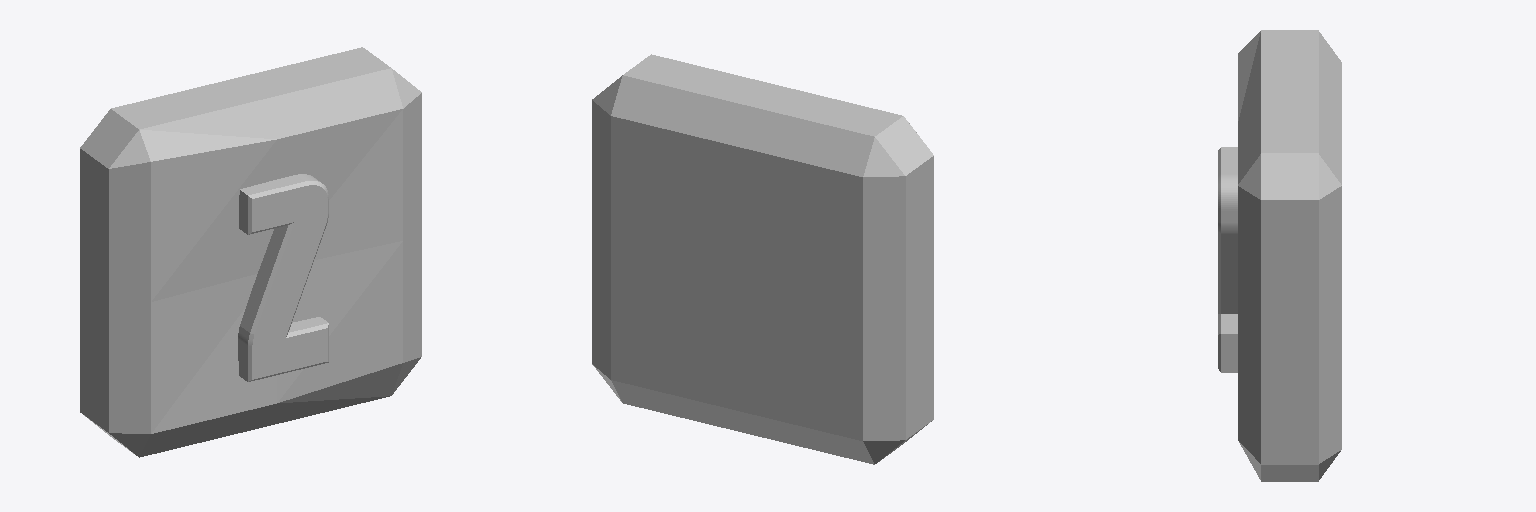
The model's file is Lvl-2.obj.
3 renders of one model, left to right at view 1: azimuth 30°, elevation 25°; view 2: azimuth 150°, elevation 25°; view 3: azimuth 270°, elevation 25°, orthographic.
Visible parts, largest first — view 1: lvl-2_Cube.011; view 2: lvl-2_Cube.011; view 3: lvl-2_Cube.011.
Part boxes in pixels (left/top/right/bottom): lvl-2_Cube.011: left=80, top=47, right=421, bottom=457; lvl-2_Cube.011: left=592, top=54, right=933, bottom=464; lvl-2_Cube.011: left=1218, top=30, right=1341, bottom=481.
Bounding box in the file's own units: 1.28 × 1.28 × 0.4393.